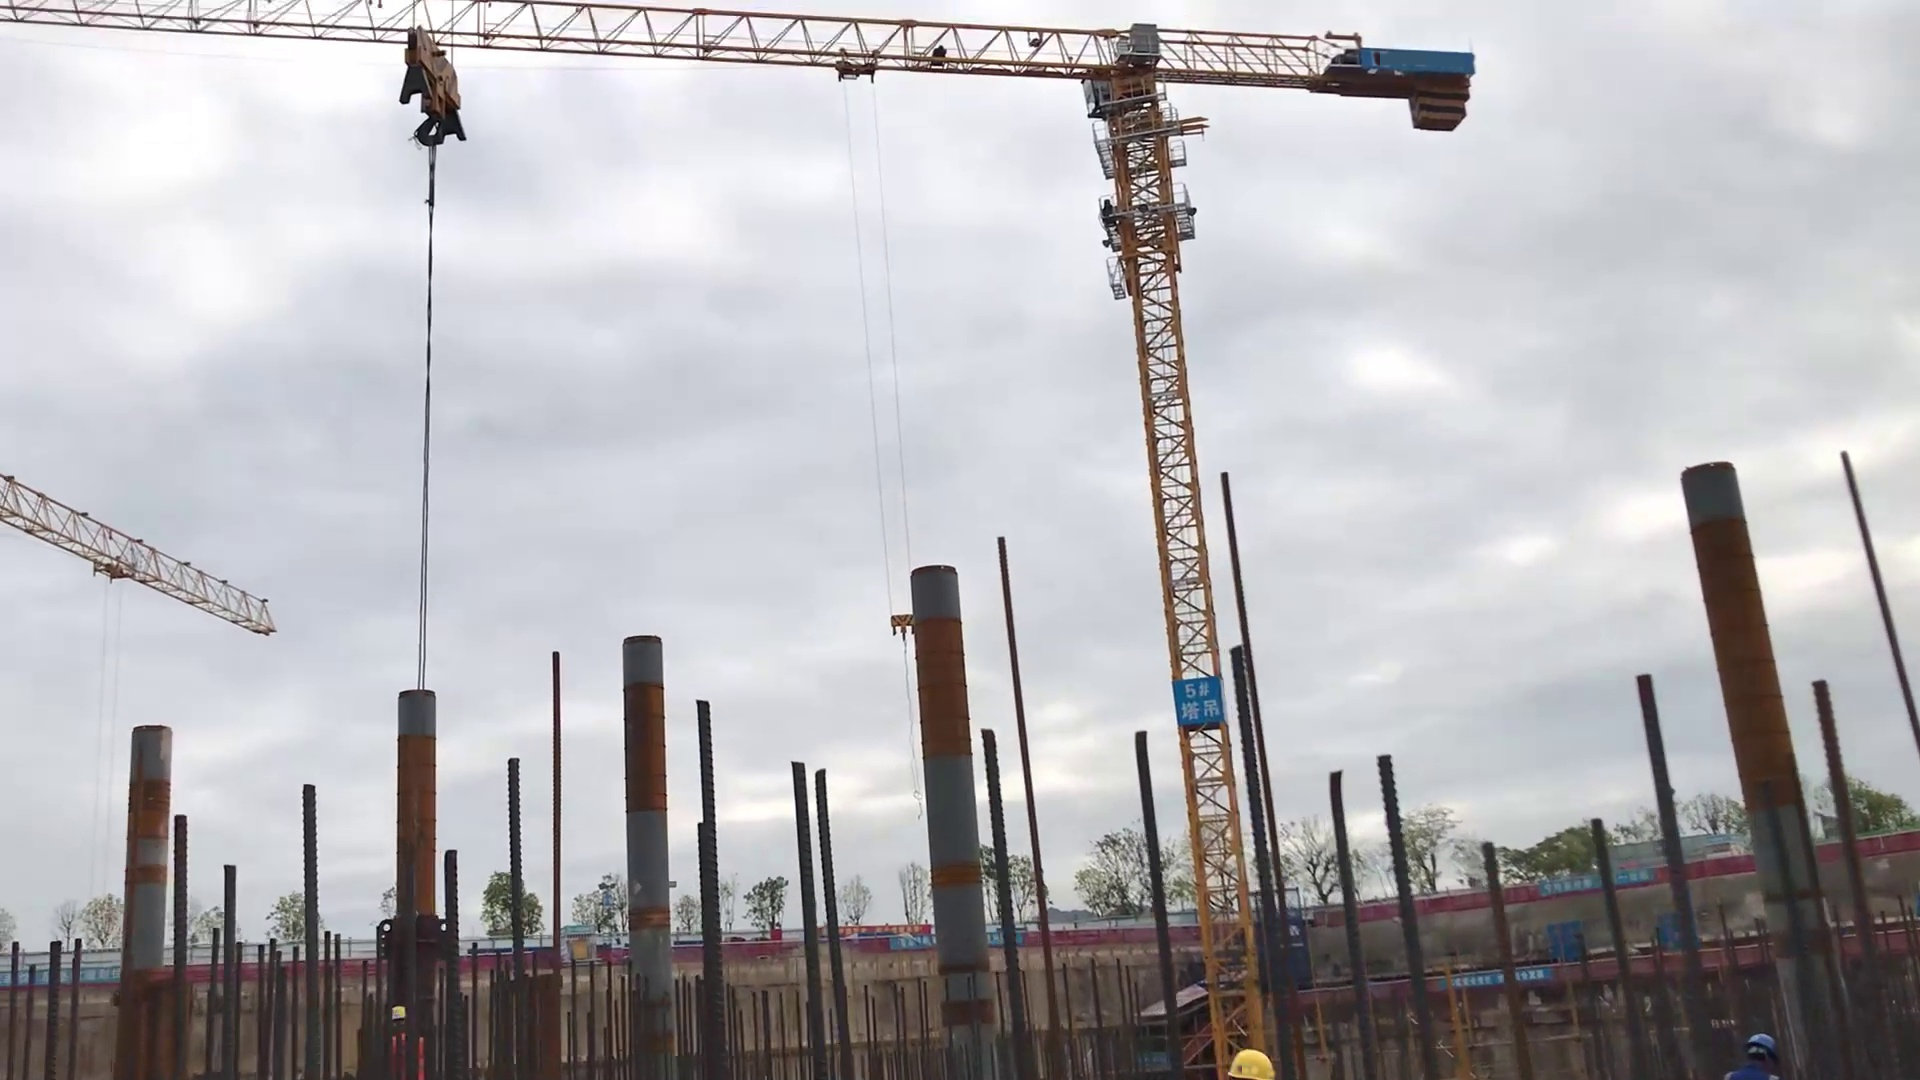fence: (1056, 916, 1153, 957), (1422, 887, 1495, 924), (1681, 852, 1749, 876)
helmet: (1225, 1042, 1276, 1080), (1738, 1026, 1783, 1062)
hook: (389, 18, 469, 200), (887, 609, 916, 644)
slogan: (1449, 956, 1567, 1000), (1536, 865, 1658, 905), (1168, 675, 1230, 732)
